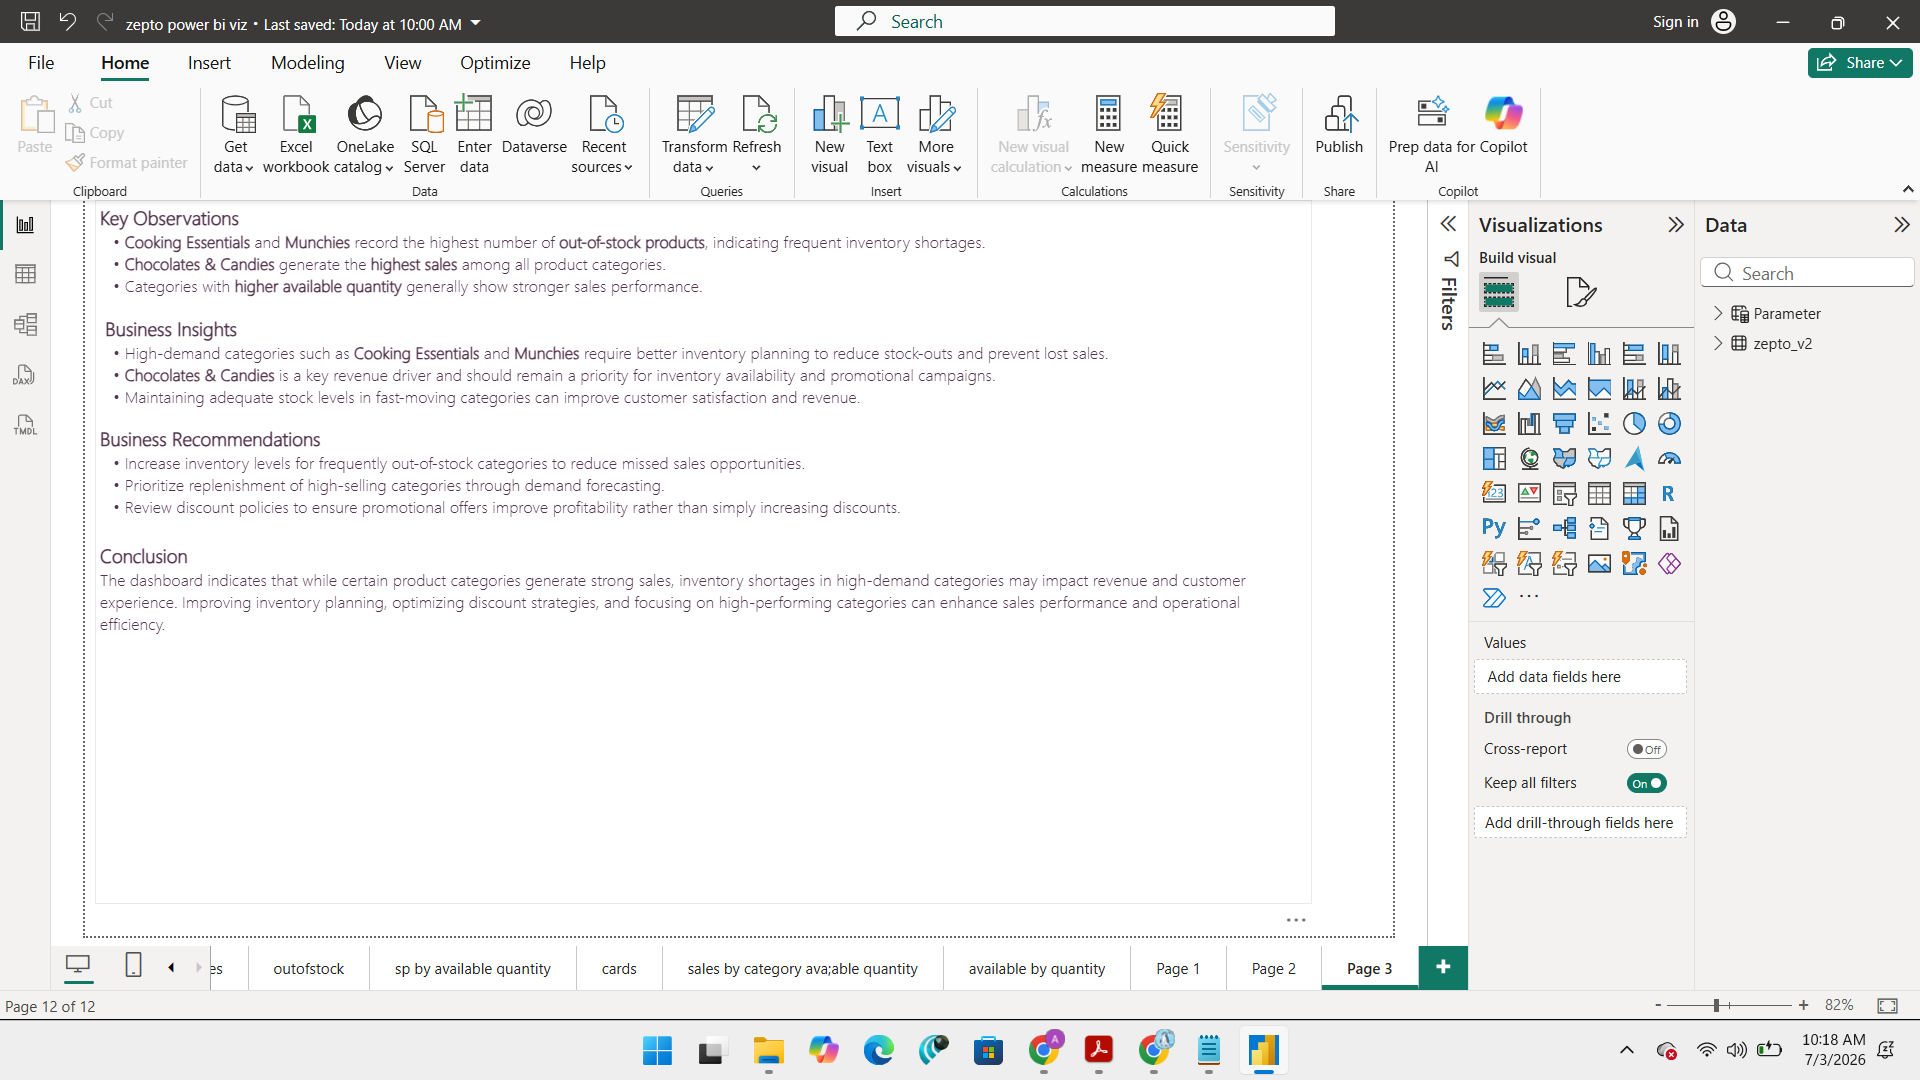

Layout of this report page (visuals, bound fields, positions):
{"tool":"powerbi","page":{"name":"Page 3","canvas":[1280,720],"ordinal":11},"visuals":[{"type":"textbox","box":[10,0,958.9,537.8],"z":0}]}

Visuals, with their boxes on the page's 1280x720 design canvas (x1, y1, x2, y2). These are canvas units, not pixel positions in the 1920x1080 screenshot, which may show the page scaled, cropped or inside an application window:
textbox: <region>10, 0, 969, 538</region>
